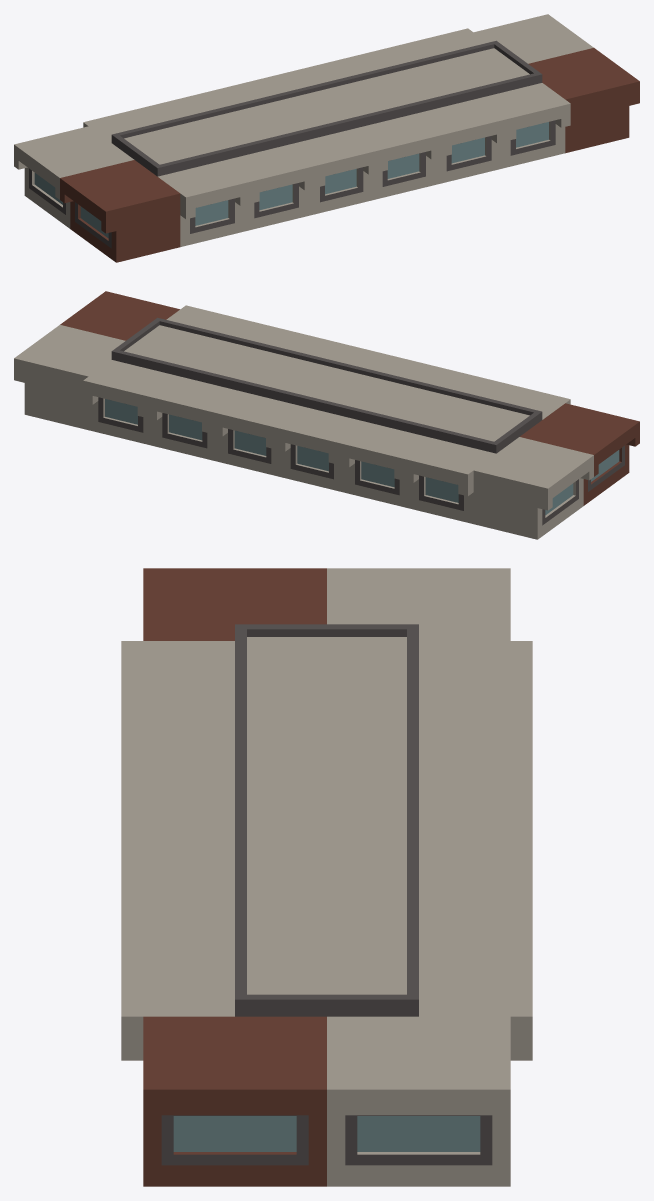
Rendered from SAL_Top.fbx.
3 views of the same model, one above another, from view 1: azimuth 30°, elevation 25°; view 2: azimuth 150°, elevation 25°; view 3: azimuth 270°, elevation 25° (orthographic). The views are drawn at different scales.
Parts seen in each view (by area): view 1: SAL_Top; view 2: SAL_Top; view 3: SAL_Top.
Part boxes in pixels (bbox=[...]): SAL_Top: bbox=[14, 14, 639, 262]; SAL_Top: bbox=[14, 291, 639, 539]; SAL_Top: bbox=[121, 568, 532, 1186].
Size of the model in its own units: 5205 by 579 by 1735.
